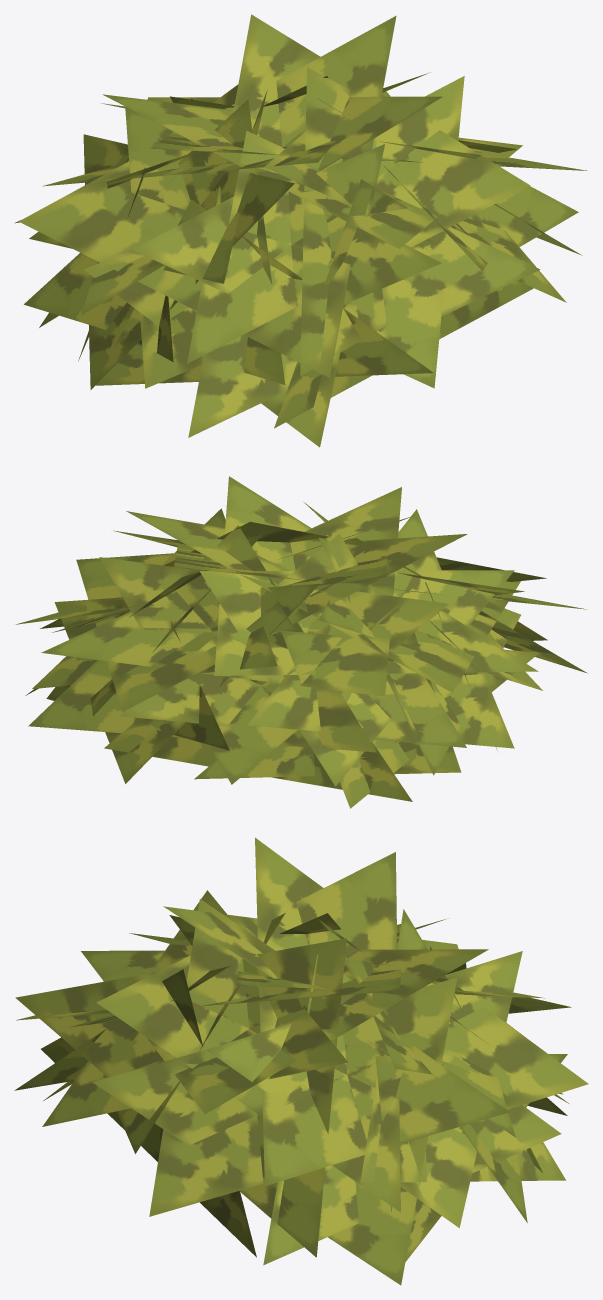
Rendered from Moss_Fern_Blob_3.glb.
3 views of the same model, one above another, from view 1: azimuth 30°, elevation 25°; view 2: azimuth 150°, elevation 25°; view 3: azimuth 270°, elevation 25° (orthographic). The views are drawn at different scales.
Visible parts, largest first — view 1: Moss_Fern_Blob_3; view 2: Moss_Fern_Blob_3; view 3: Moss_Fern_Blob_3.
Part boxes in pixels (box(x1,y1,x2,y2)): Moss_Fern_Blob_3: box(14, 14, 587, 447); Moss_Fern_Blob_3: box(16, 476, 587, 808); Moss_Fern_Blob_3: box(14, 837, 588, 1285).
Size of the model in its own units: 0.8588 by 0.3687 by 0.8043.
Materials: 1 (1 with a texture image).
